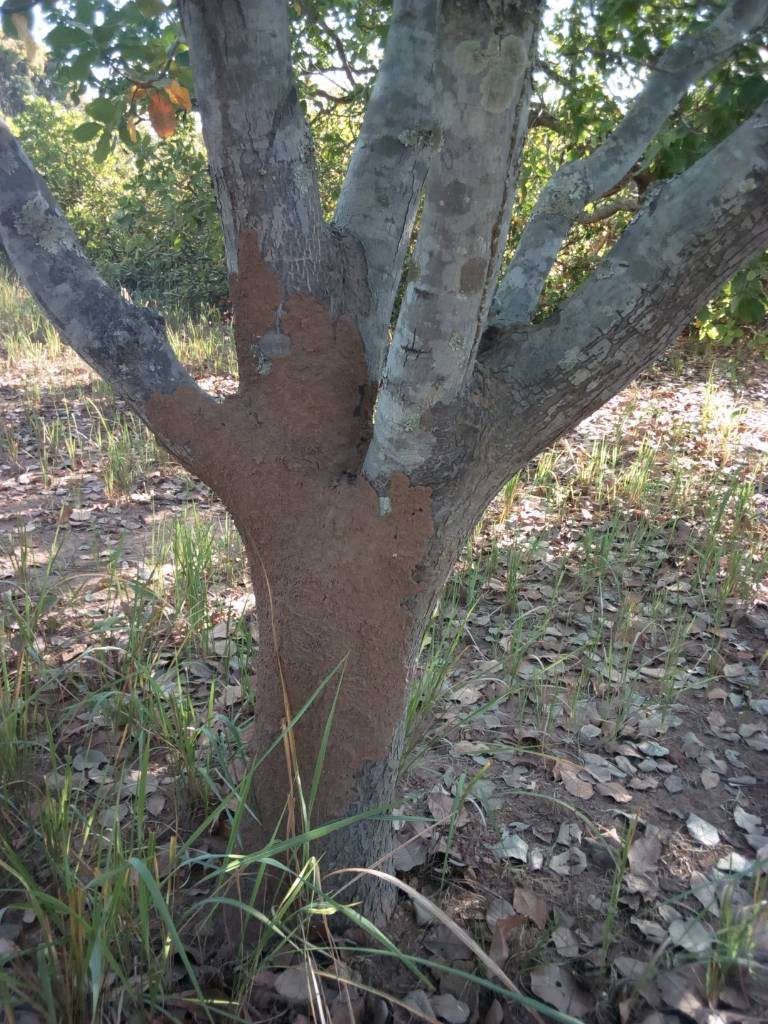Termites: (227, 280, 366, 813)
